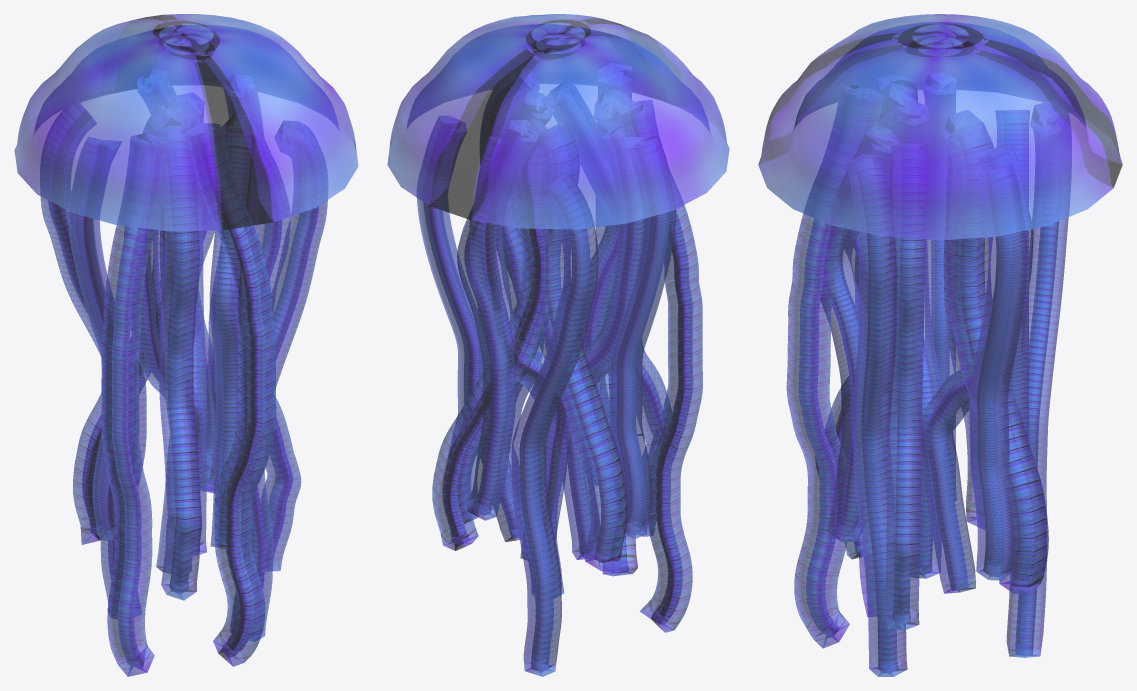
File: Jelly.fbx
3 views of the same model, side by side, from view 1: azimuth 30°, elevation 25°; view 2: azimuth 150°, elevation 25°; view 3: azimuth 270°, elevation 25° (orthographic). The views are drawn at different scales.
Parts seen in each view (by area): view 1: pSphere1, defaultBrush6Main, defaultBrush6Main1, defaultBrush5Main1, defaultBrush7Main1, defaultBrush2Main, defaultBrush5Main, defaultBrush4Main1, defaultBrush7Main, defaultBrush1Main, defaultBrush3Main, defaultBrush2Main1 (+3 smaller); view 2: pSphere1, defaultBrush7Main, defaultBrush6Main1, defaultBrush3Main, defaultBrush2Main, defaultBrush3Main1, defaultBrush4Main, defaultBrush1Main, defaultBrush2Main1, defaultBrush1Main1, defaultBrush4Main1, defaultBrush5Main (+3 smaller); view 3: pSphere1, defaultBrush6Main, defaultBrush7Main1, defaultBrush5Main, defaultBrush7Main, defaultBrush2Main1, defaultBrush3Main1, defaultBrush4Main1, defaultBrush1Main1, defaultBrush1Main, defaultBrush2Main, defaultBrush3Main (+3 smaller).
Boxes of the visible parts, x1,y1,x2,y2 form: pSphere1: [14, 14, 358, 231]; defaultBrush6Main: [186, 123, 276, 666]; defaultBrush6Main1: [101, 133, 167, 676]; defaultBrush5Main1: [157, 125, 201, 600]; defaultBrush7Main1: [230, 120, 327, 641]; defaultBrush2Main: [68, 137, 133, 541]; defaultBrush5Main: [222, 114, 301, 571]; defaultBrush4Main1: [209, 133, 256, 548]; defaultBrush7Main: [40, 99, 146, 618]; defaultBrush1Main: [124, 195, 205, 573]; defaultBrush3Main: [73, 105, 181, 544]; defaultBrush2Main1: [208, 74, 263, 481]; pSphere1: [387, 14, 729, 229]; defaultBrush7Main: [511, 174, 598, 676]; defaultBrush6Main1: [620, 100, 702, 632]; defaultBrush3Main: [534, 122, 627, 573]; defaultBrush2Main: [610, 136, 675, 538]; defaultBrush3Main1: [432, 119, 552, 550]; defaultBrush4Main: [457, 120, 539, 520]; defaultBrush1Main: [554, 127, 650, 559]; defaultBrush2Main1: [417, 116, 488, 523]; defaultBrush1Main1: [469, 137, 570, 561]; defaultBrush4Main1: [547, 81, 625, 485]; defaultBrush5Main: [481, 92, 553, 541]; pSphere1: [758, 14, 1122, 240]; defaultBrush6Main: [786, 85, 881, 648]; defaultBrush7Main1: [847, 154, 907, 676]; defaultBrush5Main: [884, 144, 927, 630]; defaultBrush7Main: [1006, 100, 1071, 657]; defaultBrush2Main1: [969, 166, 1027, 580]; defaultBrush3Main1: [946, 122, 1048, 593]; defaultBrush4Main1: [820, 125, 900, 541]; defaultBrush1Main1: [918, 146, 1033, 593]; defaultBrush1Main: [889, 103, 946, 578]; defaultBrush2Main: [923, 72, 956, 500]; defaultBrush3Main: [943, 110, 985, 529].
Size of the model in its own units: 2.92 by 5.67 by 2.96.
1 material, 1 textured.
